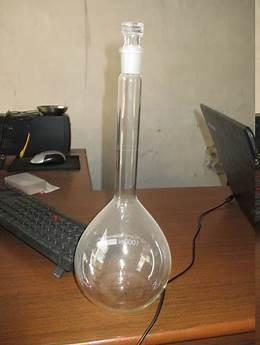Volumetric flask: (70, 23, 172, 311)
